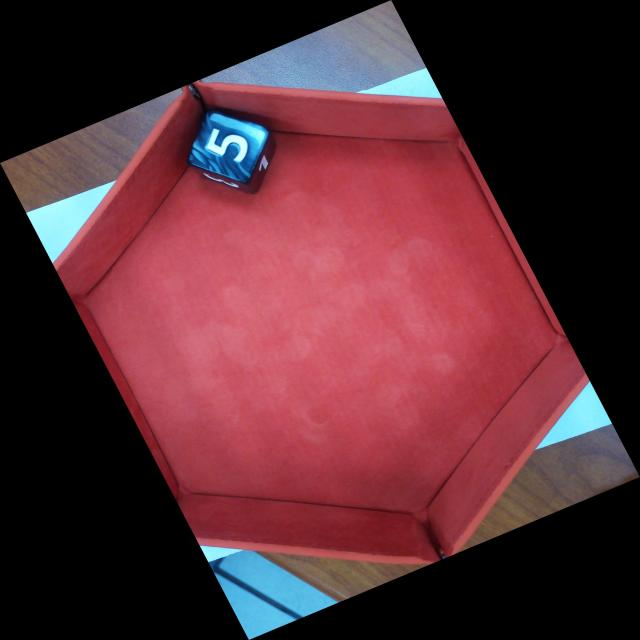dice: (185, 109, 271, 184)
